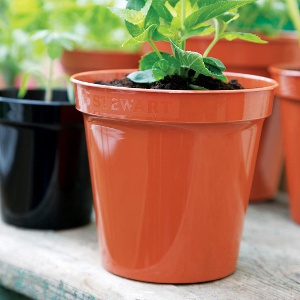flowerpot: (70, 64, 282, 288), (1, 85, 108, 235)
